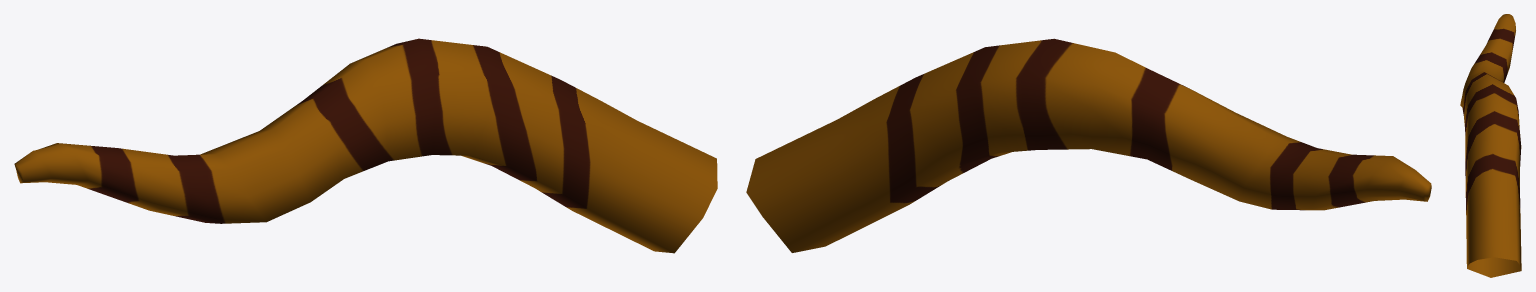
File: trap_root_C.fbx
3 views of the same model, side by side, from view 1: azimuth 30°, elevation 25°; view 2: azimuth 150°, elevation 25°; view 3: azimuth 270°, elevation 25° (orthographic). The views are drawn at different scales.
Visible parts, largest first — view 1: trap_root_C; view 2: trap_root_C; view 3: trap_root_C.
Part boxes in pixels (x1,y1,x2,y2): trap_root_C: (14, 38, 717, 253); trap_root_C: (746, 38, 1431, 252); trap_root_C: (1460, 14, 1521, 277).
Size of the model in its own units: 480 by 178 by 74.13.
